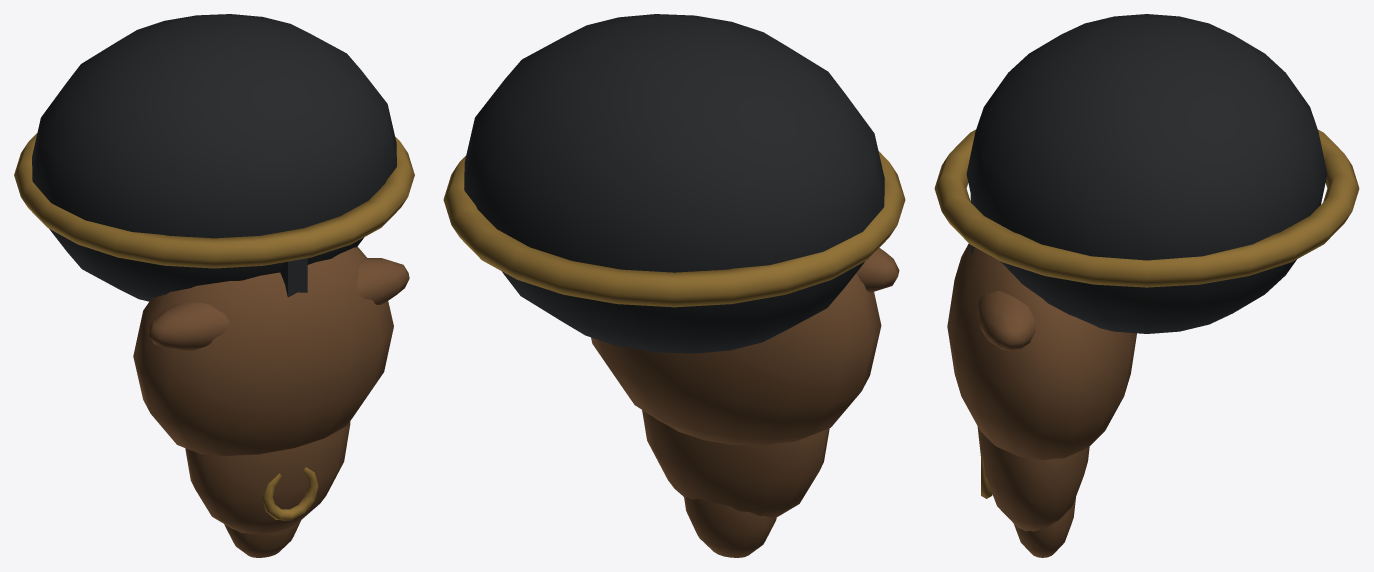
The model's file is dwarf-gear.glb.
The picture shows the model from 3 angles, left to right: view 1: azimuth 30°, elevation 25°; view 2: azimuth 150°, elevation 25°; view 3: azimuth 270°, elevation 25°; orthographic projection. The views are drawn at different scales.
Visible parts, largest first — view 1: iron, beardRust, brassOld; view 2: iron, beardRust, brassOld; view 3: iron, beardRust, brassOld.
Boxes of the visible parts, x1,y1,x2,y2 form: iron: [32, 14, 396, 301]; beardRust: [133, 246, 409, 557]; brassOld: [14, 133, 414, 520]; iron: [464, 14, 884, 353]; beardRust: [591, 248, 899, 557]; brassOld: [443, 151, 905, 307]; iron: [966, 14, 1327, 333]; beardRust: [947, 243, 1136, 557]; brassOld: [934, 129, 1359, 498].
Bounding box in the file's own units: 0.53 × 0.7115 × 0.53.
